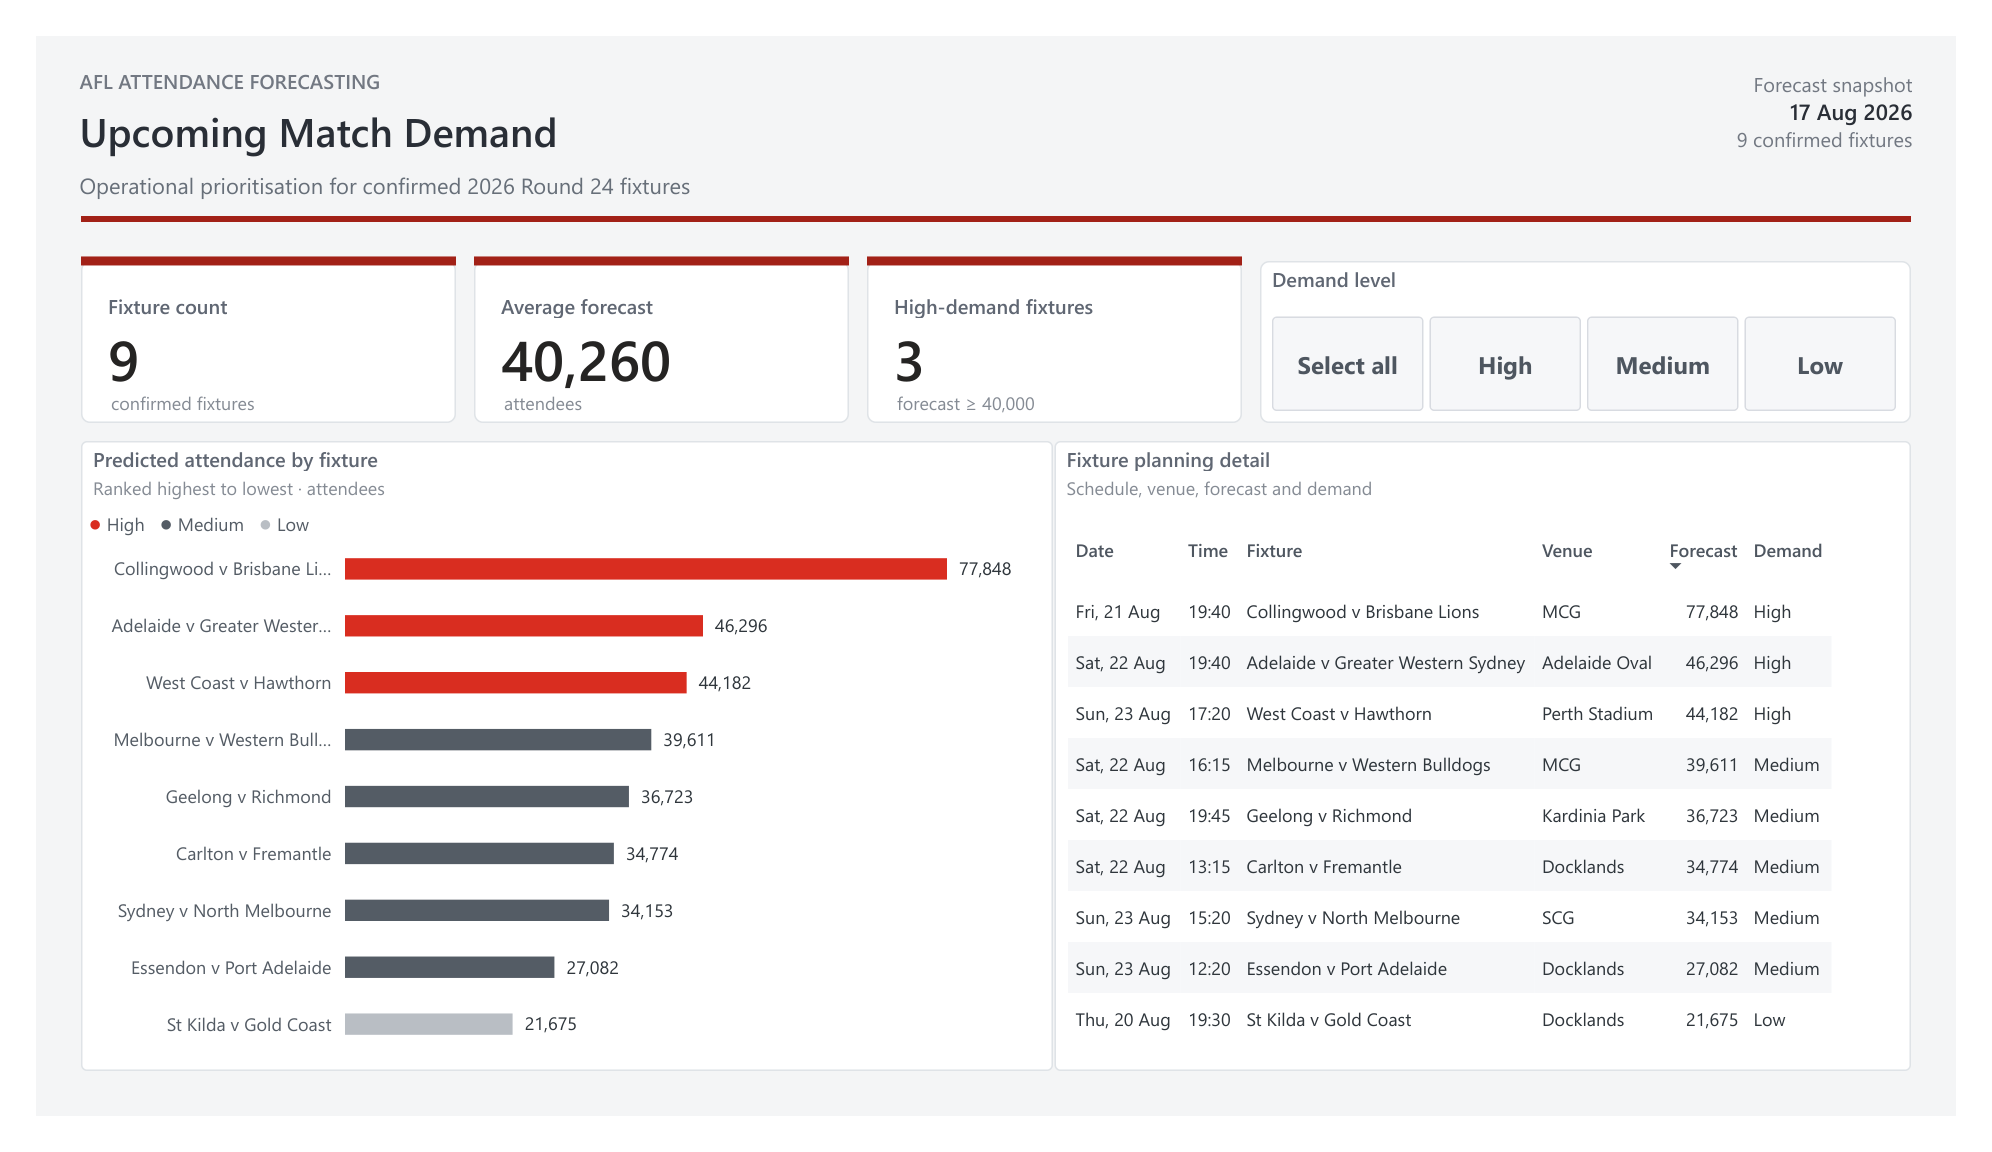

Layout of this report page (visuals, bound fields, positions):
{"tool":"powerbi","page":{"name":"Upcoming Match Demand","canvas":[1280,720],"ordinal":0},"visuals":[{"type":"textbox","box":[24,16,320,30],"z":0},{"type":"cardVisual","title":"Fixture count","fields":{"Data":["Forecasts.Fixture Count"]},"box":[30,150,250,108],"z":0,"group":"g1"},{"type":"cardVisual","title":"Fixture count","fields":{"Data":["Forecasts.Average Predicted Attendance"]},"box":[292,150,250,108],"z":0,"group":"g2"},{"type":"cardVisual","title":"Fixture count","fields":{"Data":["Forecasts.High-Demand Fixtures"]},"box":[554,150,250,108],"z":0,"group":"g3"},{"type":"textbox","box":[24,84,620,36],"z":1000},{"type":"textbox","box":[49.5,235,170.8,19.2],"z":1000,"group":"g1"},{"type":"textbox","box":[311.5,235,170.8,19.2],"z":1000,"group":"g2"},{"type":"textbox","box":[573.5,235,170.8,19.2],"z":1000,"group":"g3"},{"type":"textbox","box":[24,40,500,46],"z":2000},{"type":"shape","box":[30,144,250,12],"z":2000,"group":"g1"},{"type":"shape","box":[292,144,250,12],"z":2000,"group":"g2"},{"type":"shape","box":[554,144,250,12],"z":2000,"group":"g3"},{"type":"textbox","box":[970,18,286,78],"z":3000},{"type":"shape","box":[30,116,1220,12],"z":4000},{"type":"group","id":"g1","title":"KPI - Fixture Count","box":[30,144,250,114],"z":5000},{"type":"group","id":"g2","title":"KPI - Average Forecast","box":[292,144,250,114],"z":6000},{"type":"group","id":"g3","title":"KPI - High-Demand Fixtures","box":[554,144,249.3,113.9],"z":7000},{"type":"advancedSlicerVisual","title":"Demand level","fields":{"Values":["AttendanceLevelReference.attendance_level"]},"box":[816,150,434,108],"z":8000},{"type":"clusteredBarChart","title":"Predicted attendance by fixture","fields":{"Category":["Forecasts.Fixture"],"Y":["Sum(Forecasts.predicted_attendance)"]},"box":[30,270,648,420],"z":9000},{"type":"tableEx","title":"Fixture planning detail","fields":{"Values":["Forecasts.Match Date Label","Forecasts.start_time","Forecasts.Fixture","Forecasts.venue_name","Sum(Forecasts.predicted_attendance)","AttendanceLevelReference.attendance_level"]},"box":[678.7,270.3,571.3,419.9],"z":10000},{"type":"textbox","box":[35.1,314.4,300.3,23.4],"z":11000}]}

Visuals, with their boxes in screenshot pixels (x1, y1, x2, y2), scaled from the page's 1280x720 canvas onto the 1992x1152 screenshot:
textbox: l=37, t=26, r=535, b=74
"Fixture count" cardVisual: l=47, t=240, r=436, b=413
"Fixture count" cardVisual: l=454, t=240, r=843, b=413
"Fixture count" cardVisual: l=862, t=240, r=1251, b=413
textbox: l=37, t=134, r=1002, b=192
textbox: l=77, t=376, r=343, b=407
textbox: l=485, t=376, r=751, b=407
textbox: l=893, t=376, r=1158, b=407
textbox: l=37, t=64, r=815, b=138
shape: l=47, t=230, r=436, b=250
shape: l=454, t=230, r=843, b=250
shape: l=862, t=230, r=1251, b=250
textbox: l=1510, t=29, r=1955, b=154
shape: l=47, t=186, r=1945, b=205
"KPI - Fixture Count" group: l=47, t=230, r=436, b=413
"KPI - Average Forecast" group: l=454, t=230, r=843, b=413
"KPI - High-Demand Fixtures" group: l=862, t=230, r=1250, b=413
"Demand level" advancedSlicerVisual: l=1270, t=240, r=1945, b=413
"Predicted attendance by fixture" clusteredBarChart: l=47, t=432, r=1055, b=1104
"Fixture planning detail" tableEx: l=1056, t=432, r=1945, b=1104
textbox: l=55, t=503, r=522, b=540
